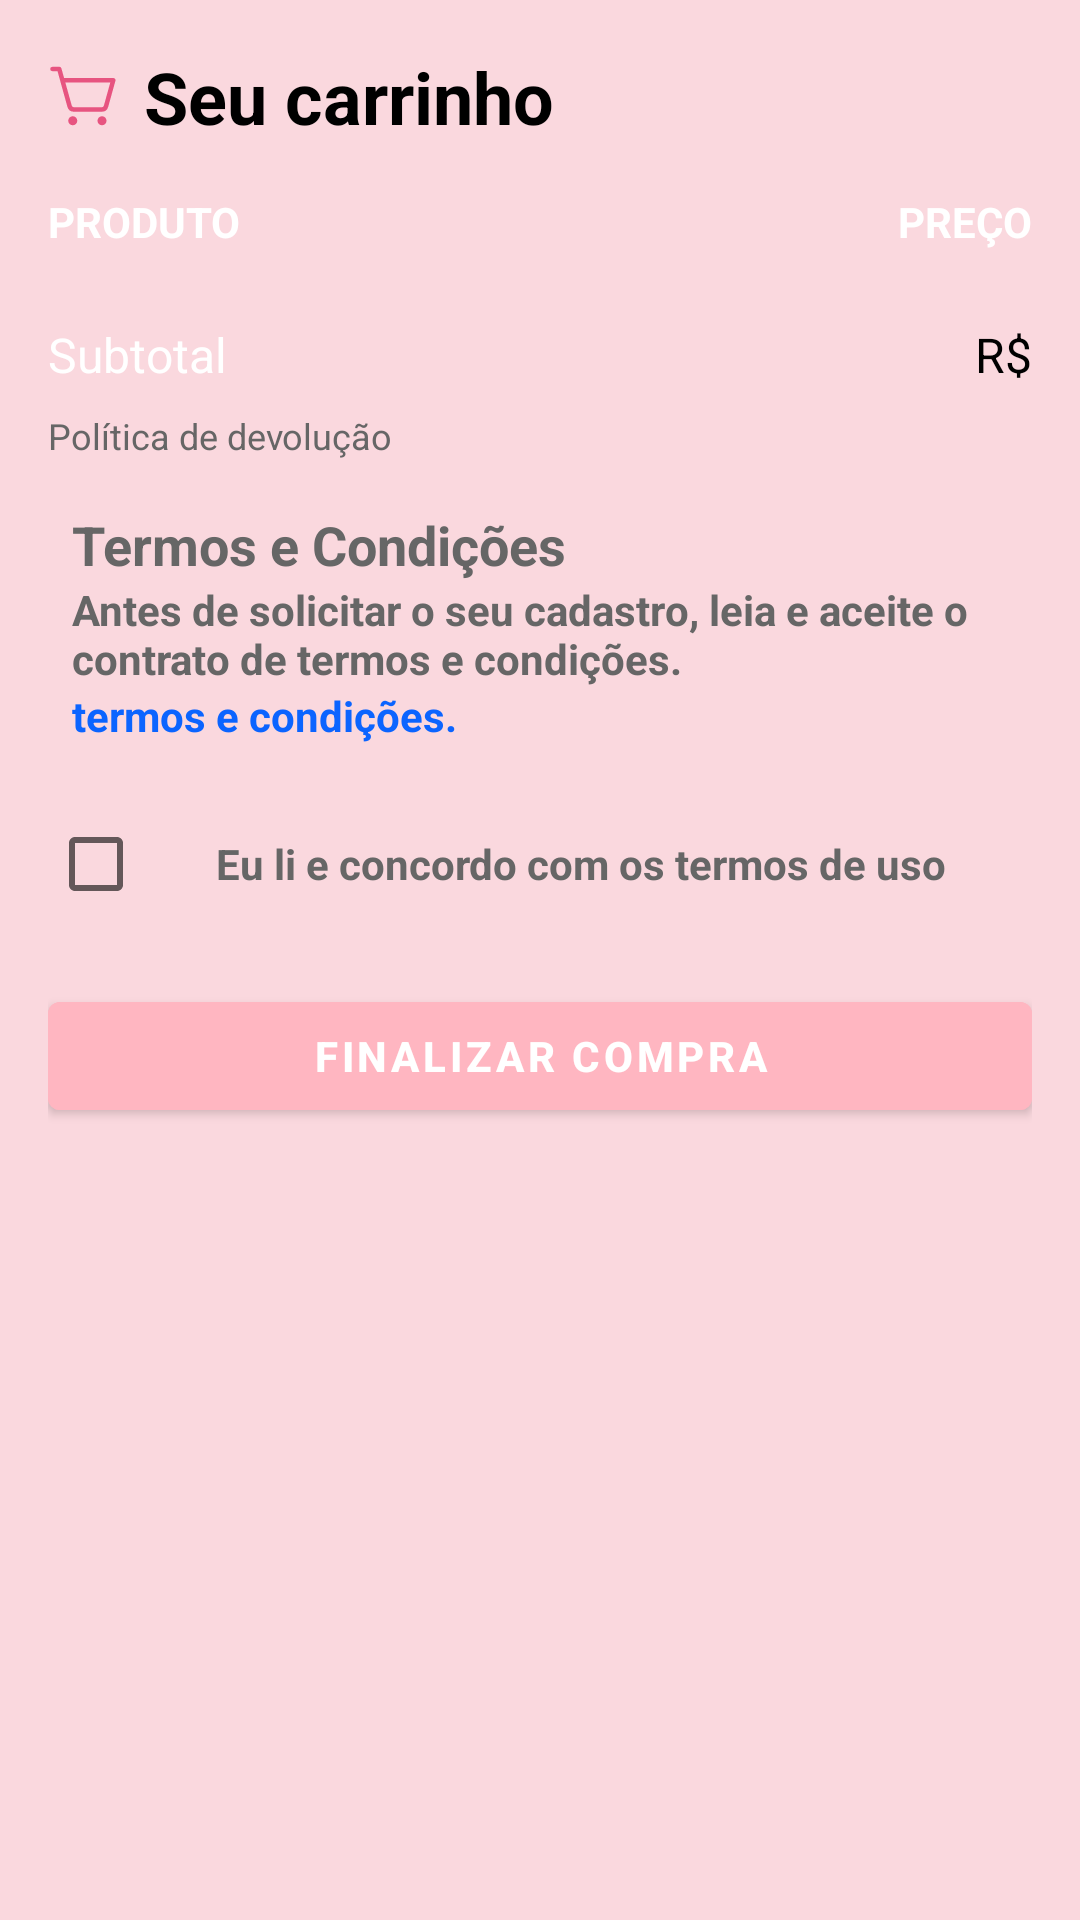

Icon bounding boxes for this 1080px×1920px phone screenshot, format (x1, y1, x2, y2):
Ícone de carrinho: (50, 66, 116, 126)
